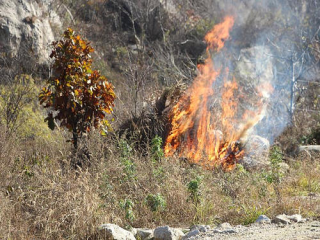fire: (163, 18, 271, 165)
